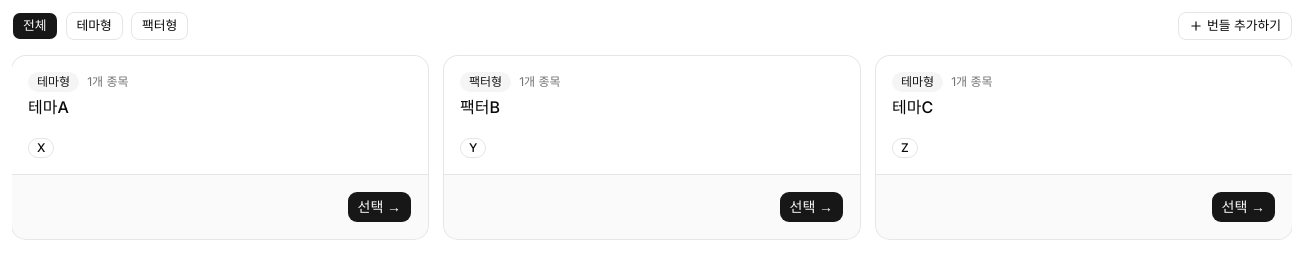
Test: BundleGallery — 기본 동작 › 전체 필터 클릭 시 모든 카드를 다시 표시한다
The width and height of the screenshot is (1304, 257).
Click the button "팩터형" at (160, 26), box [131,12,188,40]
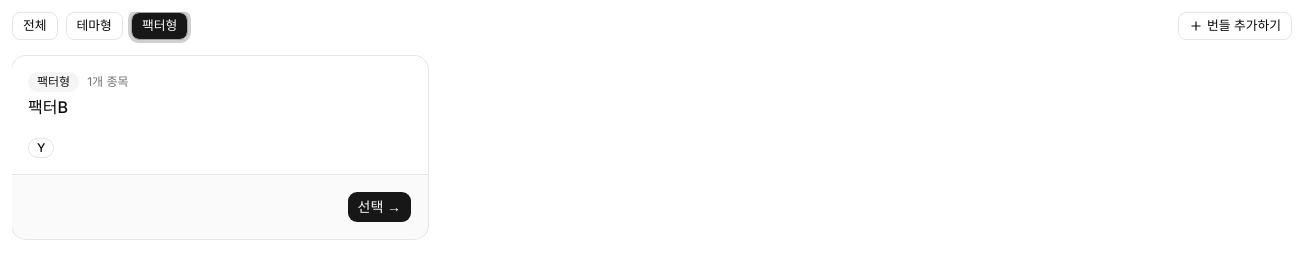
Click the button "전체" at (35, 26), box [12,12,58,40]
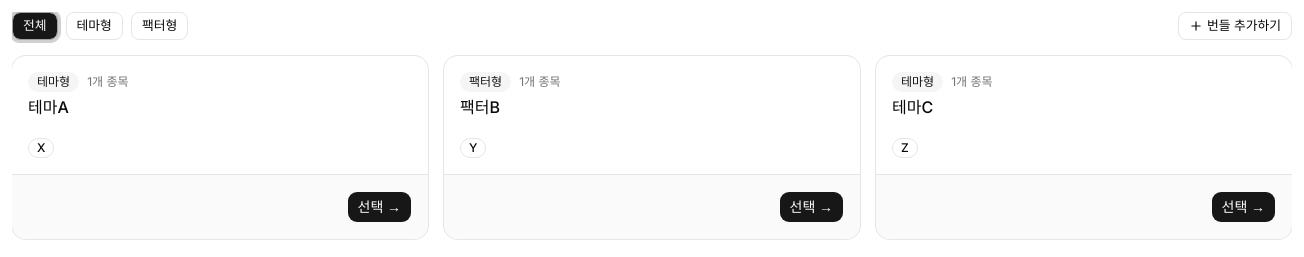
Expected: the text "팩터B" is shown, [460,97,500,117]
Now the text "테마A" is shown, box [28,97,69,117]
Now the text "테마C" is shown, box [892,97,933,117]
